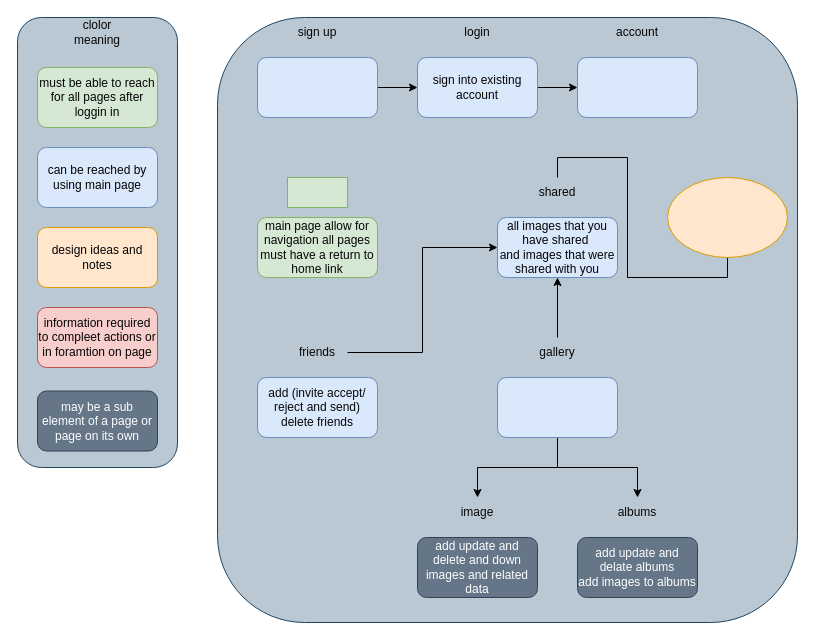
The diagram is 815 pixels wide and 640 high, and some of its shapes have lost their labels. The shapes that lost their labels are listed below. From the top down, each one's centre as x and y in pixels, then its label:
At pixel 317 87: "create a new account".
At pixel 637 87: "update or delete an existing account".
At pixel 317 192: "home".
At pixel 727 217: "will look some thing like whatsapp chat maybe".
At pixel 557 407: "main page for all images and albums".
